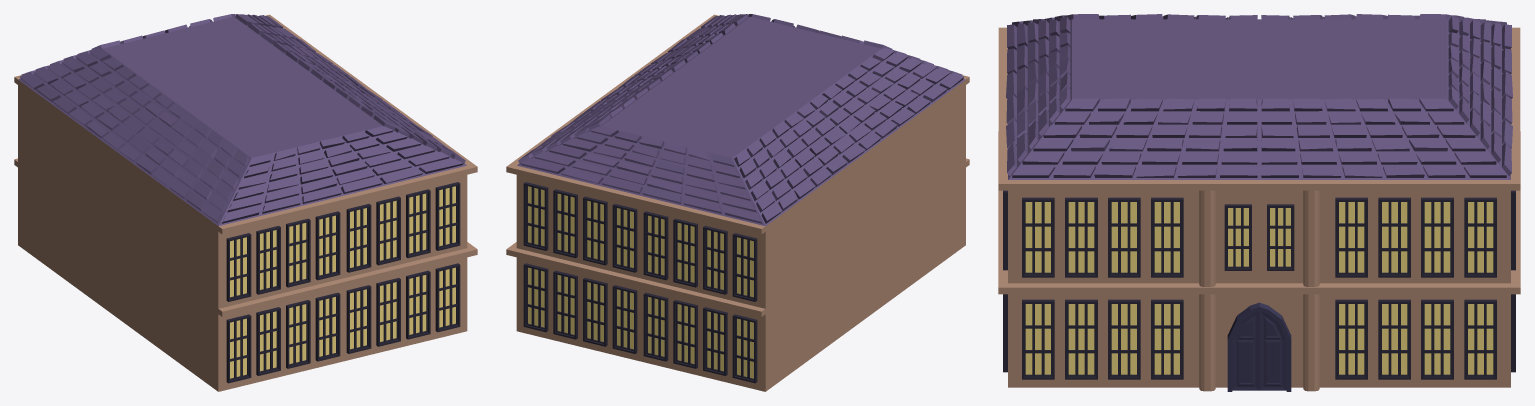
File: Wohnhaus.fbx
3 views of the same model, side by side, from view 1: azimuth 30°, elevation 25°; view 2: azimuth 150°, elevation 25°; view 3: azimuth 270°, elevation 25° (orthographic). The views are drawn at different scales.
Visible parts, largest first — view 1: Wohnhaus; view 2: Wohnhaus; view 3: Wohnhaus.
Boxes of the visible parts, box(x1,y1,x2,y2) form: Wohnhaus: box(14, 14, 477, 391); Wohnhaus: box(506, 14, 969, 391); Wohnhaus: box(998, 14, 1520, 391).
Bounding box in the file's own units: 2641 × 2002 × 3709.
